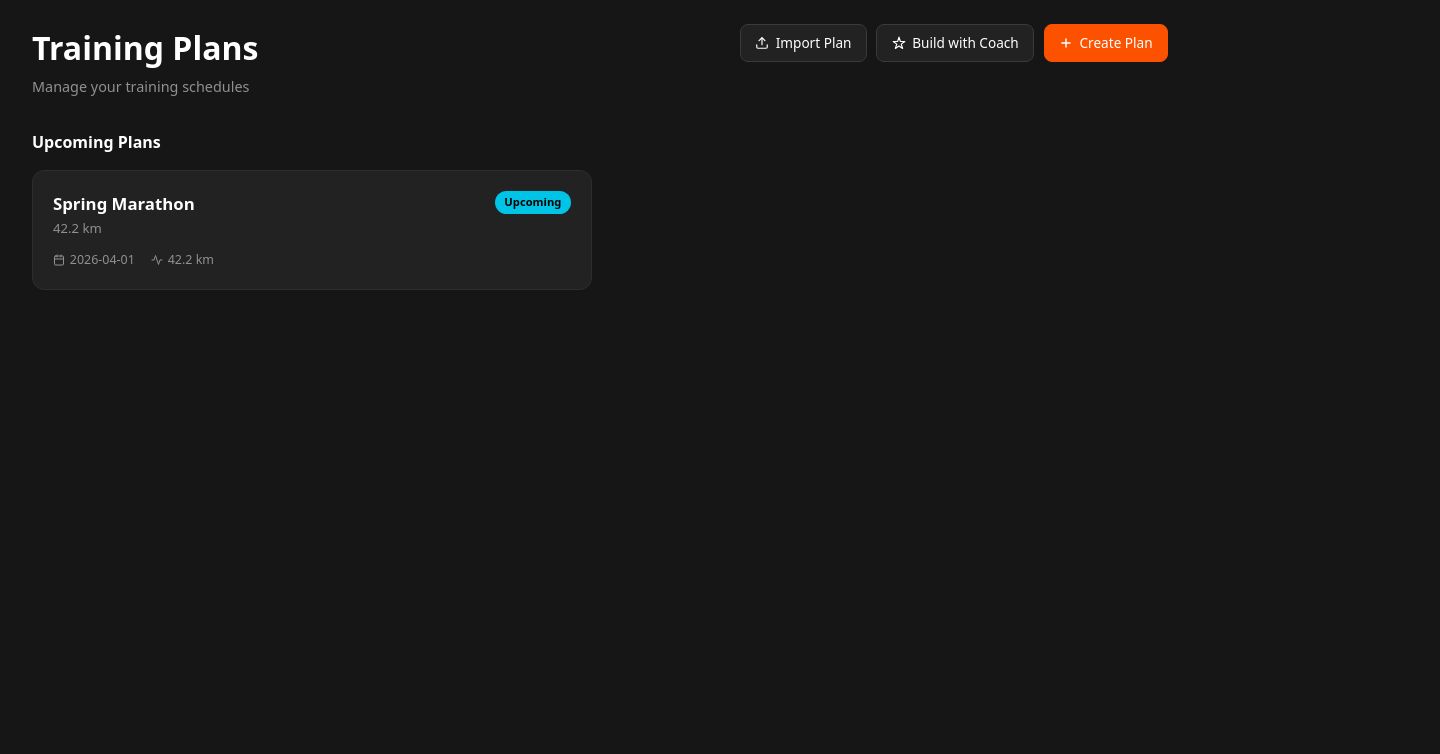
Test case: PlanningPage › deletes a plan successfully and removes it from the list
This screenshot has width=1440, height=754.
Expected: the heading "Spring Marathon" is shown, [53, 191, 195, 216]
Note: Navigate to plan detail view
Click the button "Spring Marathon 42.2 km Upcoming 2026-04-01 42.2 km": (124, 203) [32, 170, 592, 290]
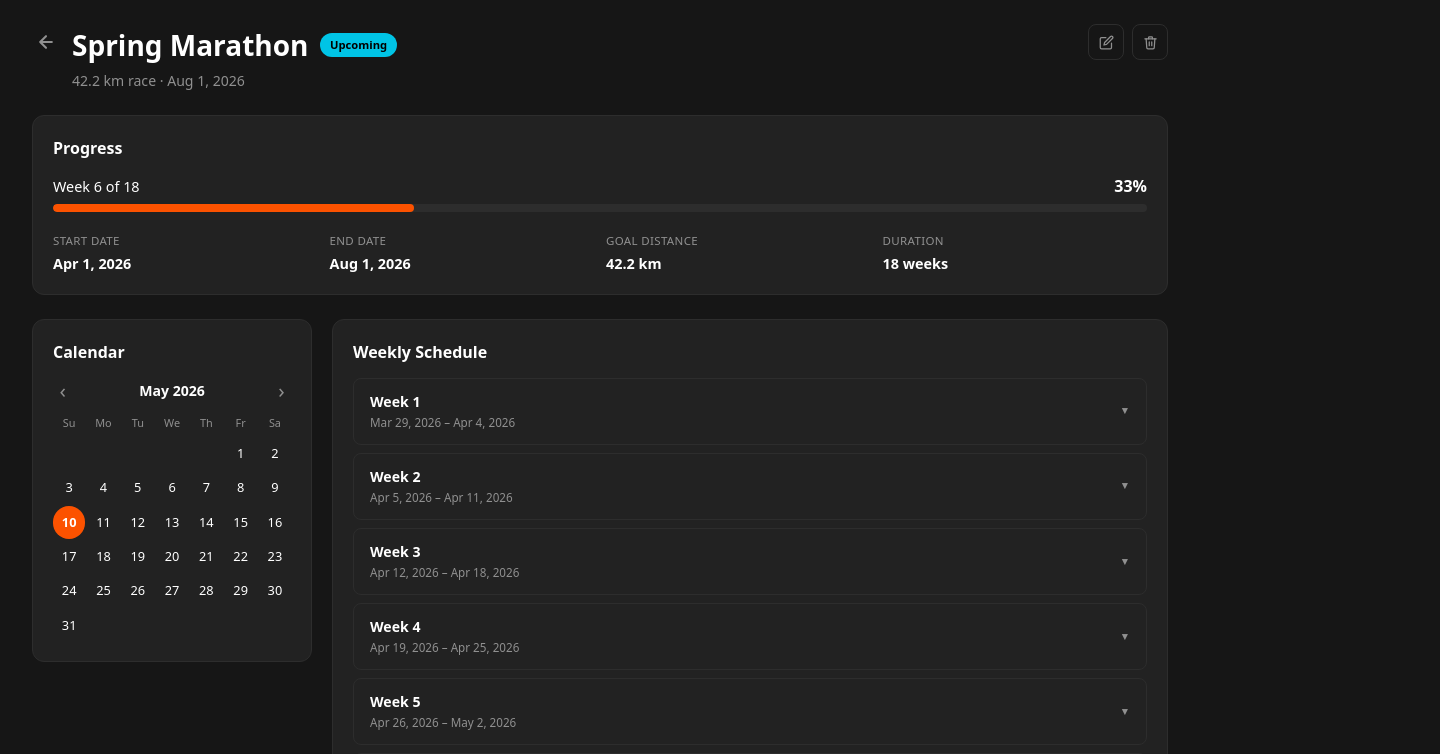
Click the button named "Delete Spring Marathon": (1150, 42) [1132, 24, 1168, 60]
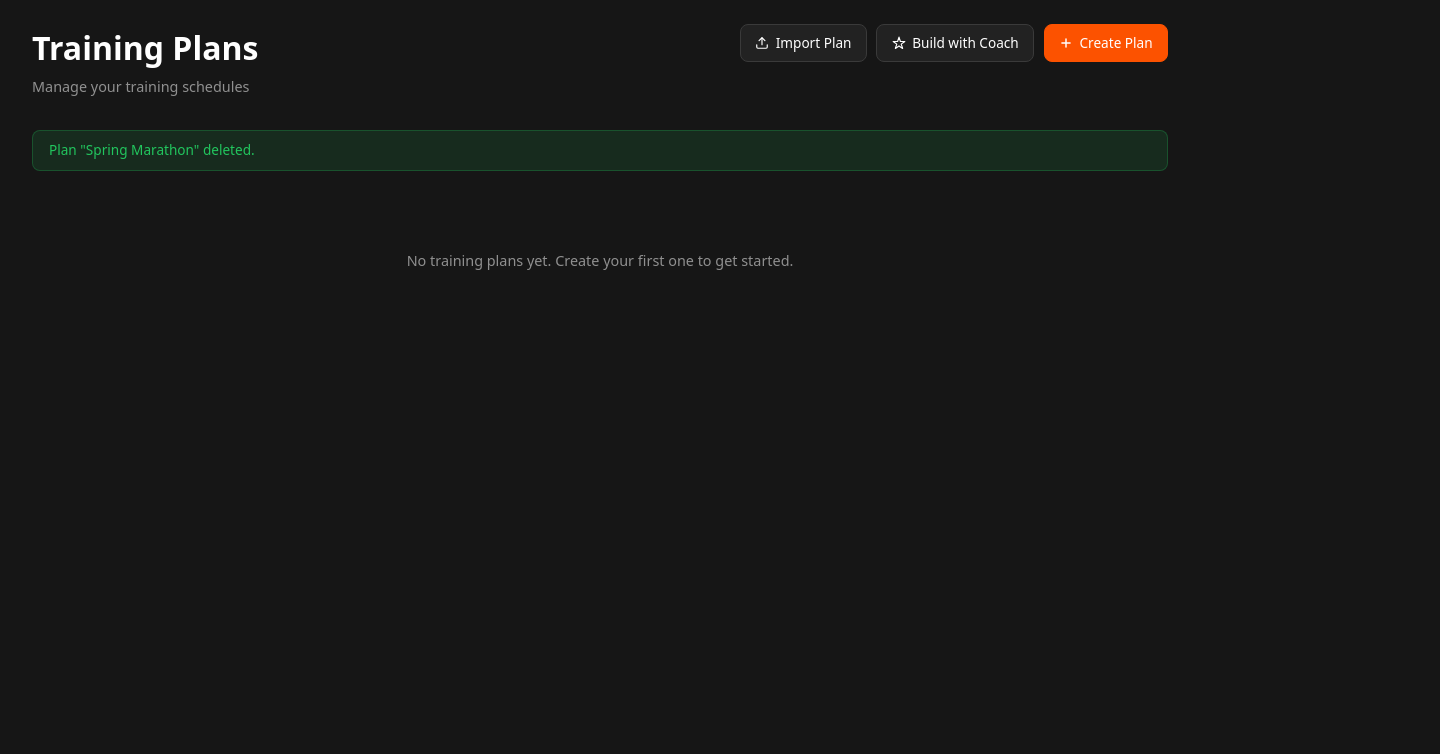
Expected: the text "Plan \"Spring Marathon\" deleted." is shown, [32, 130, 1168, 171]
